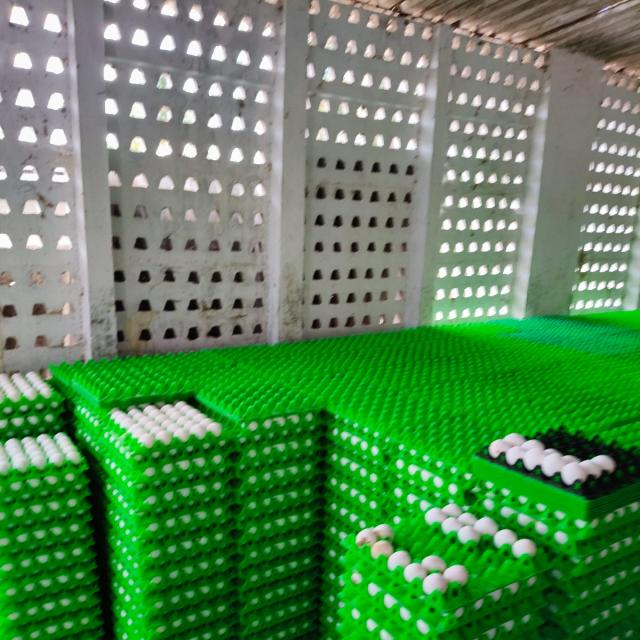egg_tray: (89, 403, 232, 602), (346, 504, 545, 638), (213, 414, 319, 624), (484, 498, 639, 637), (76, 403, 232, 539), (0, 434, 101, 638), (234, 412, 325, 628), (239, 412, 325, 634), (482, 483, 639, 600), (470, 339, 626, 452), (105, 402, 232, 539), (481, 489, 639, 593), (323, 416, 394, 637), (379, 363, 531, 466), (107, 498, 236, 614), (322, 416, 389, 638), (230, 412, 325, 566), (397, 503, 547, 599), (476, 429, 639, 516), (109, 518, 237, 628), (481, 470, 639, 556), (0, 434, 93, 580), (338, 328, 469, 426), (109, 526, 236, 619), (478, 482, 639, 555), (493, 343, 619, 436), (340, 582, 541, 640), (407, 356, 527, 453), (0, 433, 92, 559), (339, 583, 540, 640), (51, 350, 241, 410), (109, 503, 235, 593), (103, 402, 231, 490), (107, 505, 236, 592), (403, 326, 517, 423), (0, 433, 90, 554), (483, 430, 639, 499), (469, 372, 598, 455), (545, 530, 639, 638), (106, 497, 235, 575), (195, 346, 313, 425), (369, 429, 474, 516), (110, 567, 237, 638), (235, 488, 323, 589), (0, 513, 94, 603), (196, 357, 317, 426), (111, 578, 238, 640), (185, 354, 298, 423), (322, 489, 379, 625), (103, 479, 230, 540), (327, 418, 391, 539), (236, 412, 326, 498), (234, 413, 326, 495), (235, 460, 324, 544), (0, 567, 102, 640), (238, 484, 323, 568), (331, 525, 393, 640), (492, 312, 637, 360), (71, 354, 194, 409), (327, 416, 393, 518), (393, 482, 503, 543), (323, 339, 389, 440), (322, 496, 370, 634), (238, 556, 320, 632), (323, 490, 378, 602), (316, 349, 389, 432), (391, 445, 473, 517), (70, 405, 109, 549), (238, 564, 319, 633), (549, 380, 639, 442), (111, 401, 221, 451), (551, 549, 639, 610), (543, 581, 636, 638), (0, 589, 103, 640), (236, 552, 321, 613), (541, 586, 637, 640), (239, 576, 319, 640), (149, 349, 241, 402), (111, 602, 237, 640), (239, 545, 321, 602), (51, 359, 142, 409), (325, 488, 387, 561), (541, 594, 638, 640), (0, 432, 85, 484), (327, 418, 384, 495), (72, 403, 126, 484), (325, 470, 388, 538), (71, 404, 114, 503), (0, 372, 63, 439), (114, 609, 238, 640), (71, 404, 116, 484), (325, 491, 377, 560), (73, 398, 118, 477), (341, 608, 451, 640), (500, 434, 581, 474), (239, 410, 326, 445), (239, 603, 317, 640), (328, 415, 382, 468), (0, 372, 61, 416), (332, 586, 382, 638), (404, 556, 467, 595), (321, 545, 346, 640), (322, 503, 349, 580), (0, 407, 64, 439), (247, 614, 317, 640), (73, 404, 108, 449), (590, 608, 639, 640), (49, 361, 85, 401), (319, 604, 355, 640), (601, 418, 639, 448), (20, 553, 77, 572), (453, 624, 514, 640), (270, 527, 314, 548), (422, 602, 442, 630), (384, 585, 406, 608), (612, 360, 638, 379), (78, 421, 100, 442), (515, 624, 540, 640), (541, 625, 567, 640), (207, 492, 223, 515), (581, 362, 605, 377), (589, 454, 614, 468), (387, 552, 408, 568), (517, 422, 546, 433), (371, 578, 389, 593), (111, 511, 125, 530), (372, 540, 391, 554), (158, 517, 183, 526), (492, 334, 509, 347), (509, 501, 534, 509), (508, 335, 523, 348), (107, 486, 120, 501), (399, 607, 410, 622), (430, 476, 445, 487), (495, 334, 508, 346), (53, 365, 65, 377), (354, 518, 367, 529), (401, 628, 415, 638), (577, 624, 587, 638), (258, 358, 273, 367), (265, 611, 277, 622), (237, 348, 253, 356), (479, 434, 493, 443), (327, 339, 342, 347), (511, 474, 519, 488), (478, 350, 490, 359), (419, 621, 428, 633), (260, 452, 273, 460), (95, 510, 104, 521), (430, 594, 439, 605), (151, 569, 162, 578), (423, 584, 433, 593), (3, 586, 16, 592), (241, 572, 246, 586), (344, 489, 355, 495), (355, 572, 361, 583), (274, 549, 281, 558), (301, 541, 310, 548), (554, 488, 561, 496), (509, 472, 517, 479), (445, 355, 453, 362), (502, 426, 509, 433), (483, 606, 490, 613), (481, 424, 489, 430), (180, 576, 188, 582), (169, 574, 177, 580), (403, 633, 412, 638), (367, 363, 372, 372), (588, 554, 599, 558), (94, 494, 101, 500), (183, 516, 189, 523), (359, 498, 366, 504), (359, 425, 366, 431), (404, 625, 410, 632), (387, 621, 393, 628), (456, 607, 462, 614), (367, 512, 375, 517), (436, 584, 441, 592), (375, 495, 383, 500), (539, 335, 545, 341), (494, 591, 499, 598), (482, 353, 487, 360), (213, 594, 220, 599), (514, 346, 518, 354), (146, 370, 150, 378), (290, 491, 298, 495), (197, 352, 213, 354), (238, 349, 246, 353), (194, 584, 198, 592), (450, 618, 458, 622), (252, 452, 257, 458), (503, 379, 509, 384), (633, 503, 637, 510), (60, 573, 67, 577), (540, 483, 545, 488), (4, 495, 9, 500), (313, 561, 318, 566), (108, 487, 113, 492), (346, 526, 352, 530), (498, 444, 504, 448), (238, 480, 242, 486), (239, 549, 242, 557), (151, 580, 159, 583), (353, 489, 357, 495), (422, 624, 425, 632), (355, 574, 359, 580), (548, 635, 559, 637), (381, 509, 388, 512), (154, 532, 159, 536), (210, 451, 215, 455), (200, 619, 205, 623), (221, 583, 225, 588), (12, 572, 17, 576), (577, 361, 581, 366), (387, 634, 392, 638), (383, 629, 388, 633), (419, 594, 423, 599), (363, 532, 367, 537), (7, 485, 13, 488), (633, 523, 636, 529), (84, 409, 86, 418), (427, 408, 430, 414), (273, 345, 279, 348), (589, 621, 592, 627), (306, 444, 310, 448), (234, 556, 238, 560), (510, 587, 514, 591), (405, 459, 409, 463), (231, 596, 235, 600), (522, 487, 525, 492), (547, 475, 552, 478), (7, 500, 12, 503), (198, 352, 213, 353), (434, 425, 437, 429), (351, 519, 354, 523), (483, 466, 487, 469), (212, 556, 215, 560), (500, 496, 504, 499), (263, 602, 267, 605), (612, 410, 615, 414), (120, 447, 123, 451), (330, 343, 336, 345), (352, 342, 354, 348), (606, 312, 609, 316), (395, 620, 399, 623), (401, 583, 403, 589), (603, 610, 606, 614), (159, 635, 165, 637), (435, 567, 438, 571), (371, 416, 375, 419), (410, 362, 413, 366), (465, 355, 468, 359), (123, 505, 126, 509), (287, 604, 292, 606), (412, 441, 417, 443), (203, 443, 205, 448), (550, 503, 553, 506), (313, 603, 316, 606), (361, 594, 364, 597), (492, 450, 495, 453), (593, 622, 596, 625), (382, 615, 385, 618), (161, 509, 164, 512), (371, 595, 374, 598), (196, 371, 199, 374), (528, 354, 531, 357), (532, 603, 535, 606), (292, 625, 295, 628), (162, 611, 165, 614), (487, 477, 491, 479), (188, 440, 190, 444), (557, 377, 561, 379), (618, 421, 622, 423), (563, 354, 565, 358), (338, 635, 342, 637), (370, 594, 374, 596), (413, 487, 415, 491), (541, 421, 545, 423), (103, 440, 106, 442), (523, 365, 525, 368), (578, 497, 581, 499), (559, 478, 561, 481), (146, 366, 148, 369), (633, 529, 636, 531), (218, 349, 221, 351), (187, 450, 190, 452), (142, 634, 145, 636), (176, 519, 178, 522), (266, 509, 269, 511), (2, 605, 4, 608), (329, 351, 330, 357), (345, 342, 347, 345), (372, 589, 374, 592), (383, 510, 386, 512), (331, 475, 334, 477), (329, 618, 332, 620), (381, 421, 384, 423), (363, 418, 365, 421), (153, 610, 156, 612), (162, 509, 164, 512), (396, 608, 397, 613), (523, 485, 525, 487), (403, 407, 405, 409), (423, 630, 425, 632), (279, 609, 283, 610), (216, 582, 218, 584), (172, 562, 174, 564), (247, 358, 249, 360), (261, 598, 263, 600), (154, 611, 156, 613), (3, 600, 5, 602), (435, 405, 437, 407), (475, 370, 477, 372), (345, 610, 347, 612), (316, 551, 318, 553), (510, 426, 512, 428), (539, 400, 543, 401), (233, 349, 235, 351), (375, 361, 377, 363), (506, 599, 508, 601), (333, 458, 335, 460), (374, 399, 376, 401), (509, 524, 511, 526), (134, 623, 137, 624), (212, 636, 215, 637), (186, 567, 189, 568), (339, 636, 342, 637), (214, 350, 217, 351), (256, 460, 259, 461), (216, 350, 219, 351), (636, 327, 639, 328), (256, 347, 259, 348), (407, 605, 410, 606), (454, 587, 457, 588), (376, 480, 377, 483), (310, 604, 311, 606), (97, 514, 99, 515), (339, 636, 341, 637), (25, 487, 27, 488), (28, 485, 30, 486), (154, 576, 155, 578), (119, 471, 121, 472), (593, 538, 594, 540), (554, 562, 555, 564), (629, 575, 630, 577), (392, 624, 393, 626), (382, 614, 384, 615), (281, 451, 283, 452), (311, 544, 312, 546), (267, 542, 269, 543), (584, 392, 586, 393), (81, 411, 82, 413), (332, 400, 334, 401), (276, 543, 278, 544), (361, 596, 363, 597), (262, 352, 263, 354), (362, 336, 364, 337), (375, 578, 377, 579), (466, 470, 468, 471), (371, 422, 373, 423), (537, 412, 539, 413), (455, 367, 457, 368), (501, 476, 502, 477), (98, 527, 99, 528), (362, 612, 363, 613), (178, 403, 179, 404), (601, 552, 602, 553), (514, 496, 515, 497), (274, 452, 275, 453), (373, 507, 374, 508), (81, 410, 82, 411), (21, 569, 22, 570), (269, 369, 270, 370), (414, 594, 415, 595), (408, 594, 409, 595), (367, 569, 368, 570), (521, 594, 522, 595), (444, 591, 445, 592), (427, 576, 428, 577), (298, 625, 299, 626), (458, 610, 459, 611), (461, 636, 462, 636), (603, 472, 610, 472), (539, 456, 539, 457), (285, 476, 285, 478), (142, 374, 143, 374), (229, 596, 230, 596), (196, 442, 196, 443), (143, 420, 143, 421), (114, 412, 115, 412), (525, 367, 525, 368), (576, 636, 578, 636), (198, 525, 203, 525), (77, 636, 81, 636), (232, 350, 234, 350), (210, 618, 210, 619), (143, 534, 143, 534), (301, 540, 301, 542), (303, 542, 303, 544), (605, 409, 605, 411), (580, 392, 582, 392), (230, 576, 230, 577), (387, 390, 388, 390), (198, 492, 198, 492), (185, 492, 186, 492), (425, 623, 425, 624), (87, 556, 88, 556), (87, 552, 87, 552), (505, 432, 505, 432), (423, 508, 423, 509), (514, 623, 514, 623), (414, 602, 414, 604), (410, 588, 410, 591), (361, 539, 361, 541), (378, 528, 381, 528), (334, 629, 334, 632), (487, 608, 488, 608), (519, 536, 522, 536)
